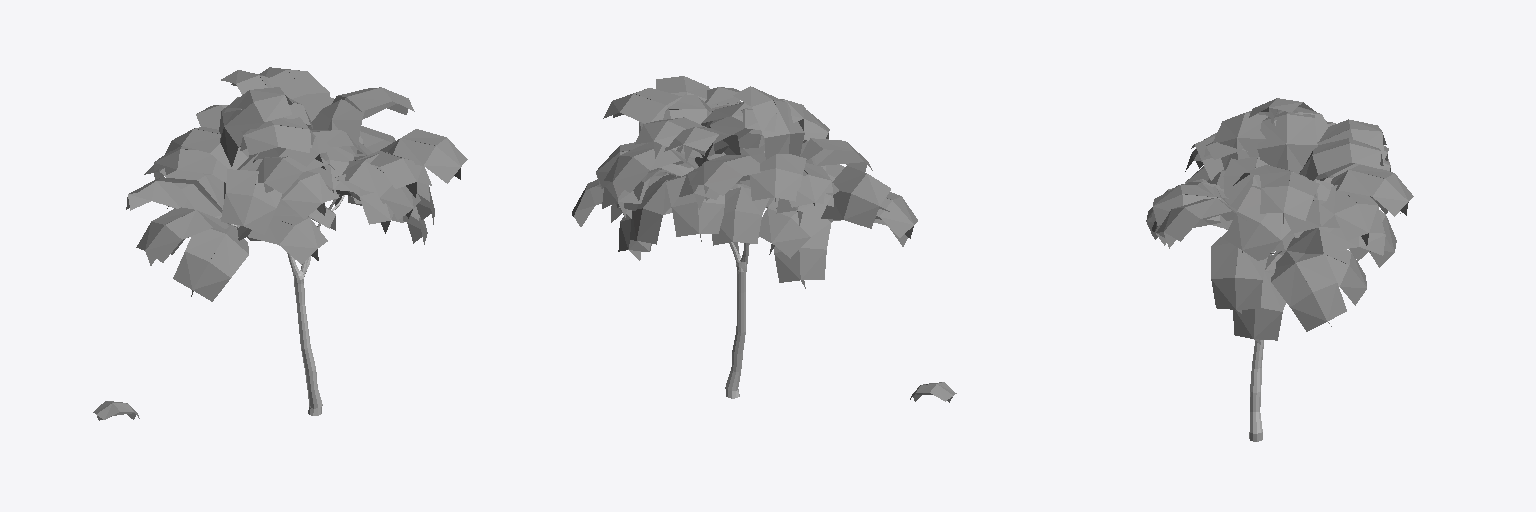
The model's file is gum_tree1.obj.
3 views of the same model, side by side, from view 1: azimuth 30°, elevation 25°; view 2: azimuth 150°, elevation 25°; view 3: azimuth 270°, elevation 25° (orthographic).
Visible parts, largest first — view 1: Plane_branch, Plane.051_branch, Plane.009_branch, Plane.019_branch, Plane.038_branch, Plane.050_branch, Plane.037_branch, Plane.034_branch, Circle.001, Plane.023_branch, Plane.001_branch, Plane.013_branch (+16 smaller); view 2: Plane.001_branch, Plane.051_branch, Plane.016_branch, Plane.007_branch, Plane.029_branch, Plane.026_branch, Plane.012_branch, Plane.004_branch, Plane.008_branch, Plane.031_branch, Plane.021_branch, Circle.001 (+15 smaller); view 3: Plane.044_branch, Plane.048_branch, Plane.022_branch, Plane.024_branch, Plane.026_branch, Plane.047_branch, Plane.021_branch, Plane.023_branch, Plane.028_branch, Plane.038_branch, Plane.034_branch, Plane.045_branch (+8 smaller).
Boxes of the visible parts, x1,y1,x2,y2 form: Plane_branch: [173, 224, 248, 301]; Plane.051_branch: [219, 87, 292, 166]; Plane.009_branch: [221, 169, 281, 234]; Plane.019_branch: [136, 207, 228, 265]; Plane.038_branch: [380, 129, 467, 183]; Plane.050_branch: [237, 214, 327, 264]; Plane.037_branch: [337, 153, 420, 220]; Plane.034_branch: [240, 117, 325, 166]; Circle.001: [227, 194, 344, 415]; Plane.023_branch: [259, 67, 330, 121]; Plane.001_branch: [126, 177, 222, 218]; Plane.013_branch: [281, 172, 335, 218]; Plane.001_branch: [821, 166, 890, 228]; Plane.051_branch: [733, 86, 804, 159]; Plane.016_branch: [712, 187, 769, 253]; Plane.007_branch: [749, 153, 806, 208]; Plane.029_branch: [666, 169, 724, 241]; Plane.026_branch: [604, 143, 697, 197]; Plane.012_branch: [759, 197, 830, 258]; Plane.004_branch: [774, 219, 831, 288]; Plane.008_branch: [689, 155, 760, 200]; Plane.031_branch: [630, 180, 670, 250]; Plane.021_branch: [603, 88, 681, 123]; Circle.001: [695, 161, 749, 398]; Plane.044_branch: [1271, 251, 1346, 331]; Plane.048_branch: [1211, 232, 1267, 313]; Plane.022_branch: [1257, 111, 1317, 173]; Plane.024_branch: [1224, 186, 1290, 260]; Plane.026_branch: [1331, 165, 1413, 216]; Plane.047_branch: [1233, 254, 1285, 344]; Plane.021_branch: [1260, 172, 1319, 223]; Plane.023_branch: [1299, 138, 1383, 180]; Plane.028_branch: [1321, 185, 1384, 245]; Plane.038_branch: [1156, 198, 1246, 248]; Plane.034_branch: [1213, 111, 1267, 169]; Plane.045_branch: [1287, 227, 1385, 255].
Size of the model in its own units: 41.22 by 36.48 by 27.68.